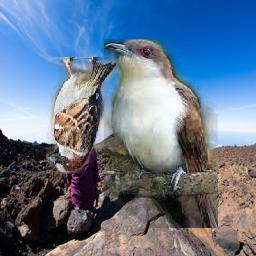Cuckoo: (104, 40, 218, 229)
Sparrow: (46, 58, 116, 175)
